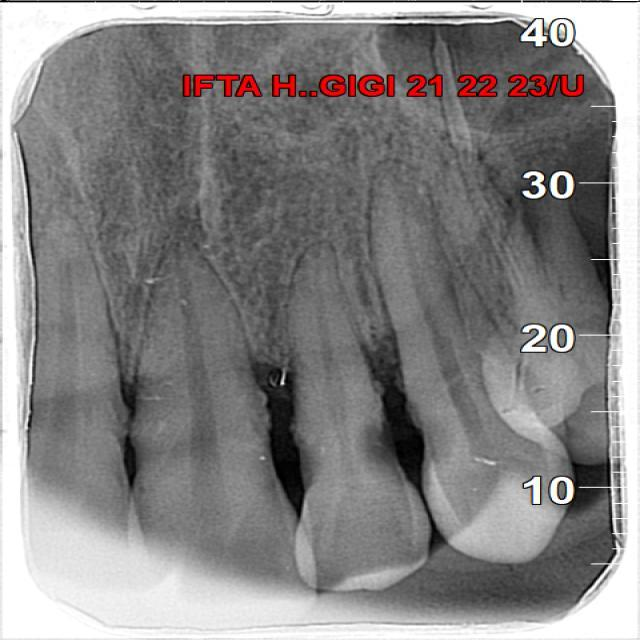individual-tooth-8tto: (377, 144, 588, 545), (295, 248, 437, 604)
